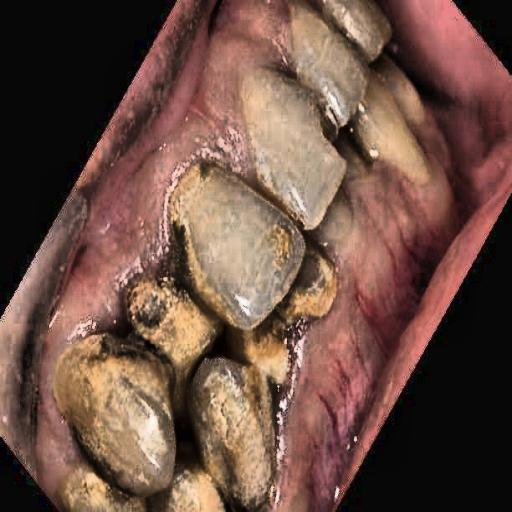Calculus: (48, 130, 330, 510)
